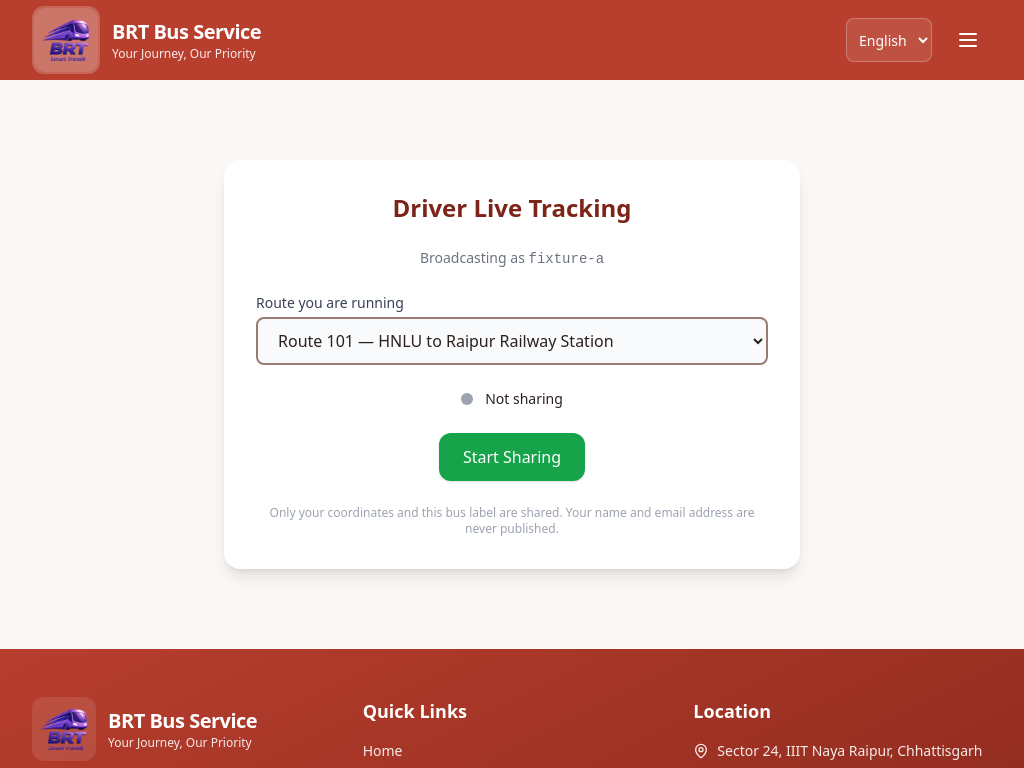
it: starting a shift › explains a refused location permission and stands down
The image size is (1024, 768).
Click the button "Start Sharing". click: (512, 457)
box: [439,433,585,481]
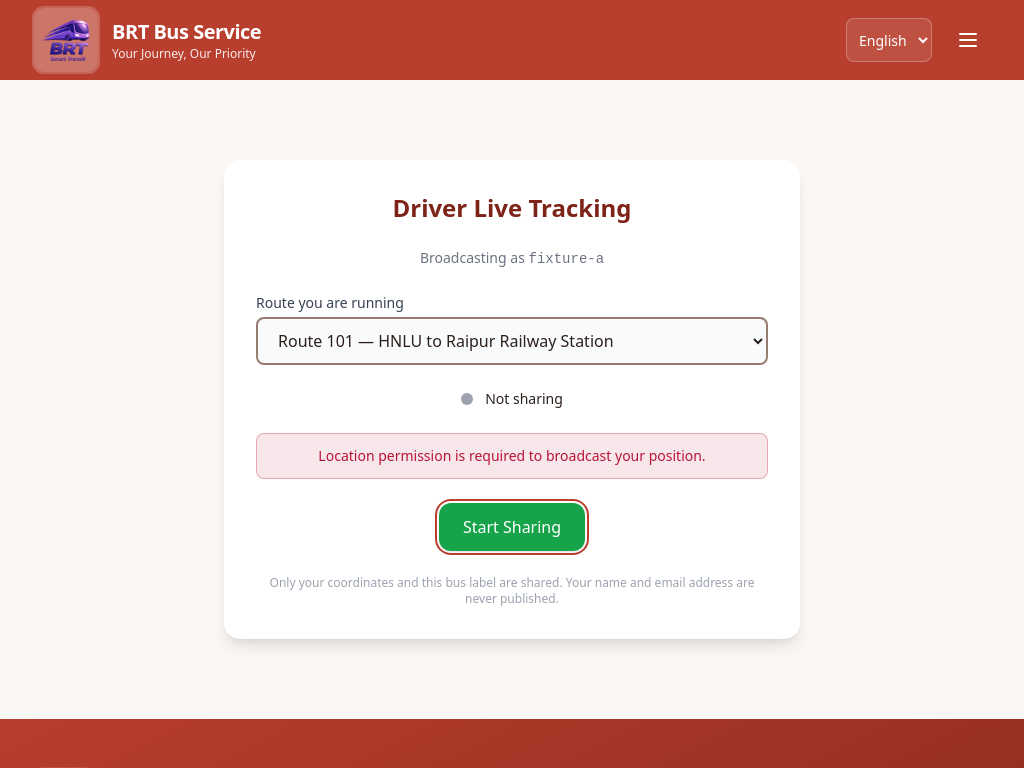
Expected: the text "Not sharing" is shown, [485,389,563,409]
Result: the text "Location permission is required to broadcast your position." is shown at [318,446,706,465]
